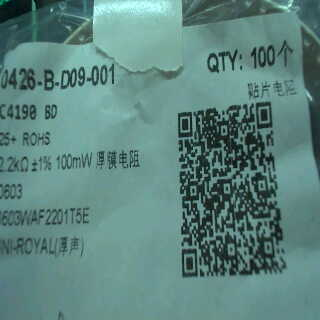2.2kR: (1, 153, 33, 176)
